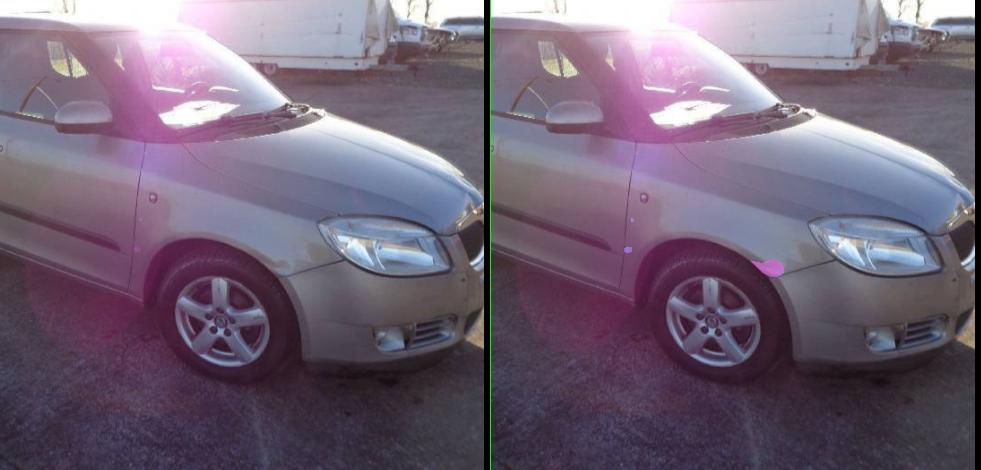Dent: (521, 259, 585, 276)
Scratch: (266, 247, 280, 252), (280, 218, 284, 221)
